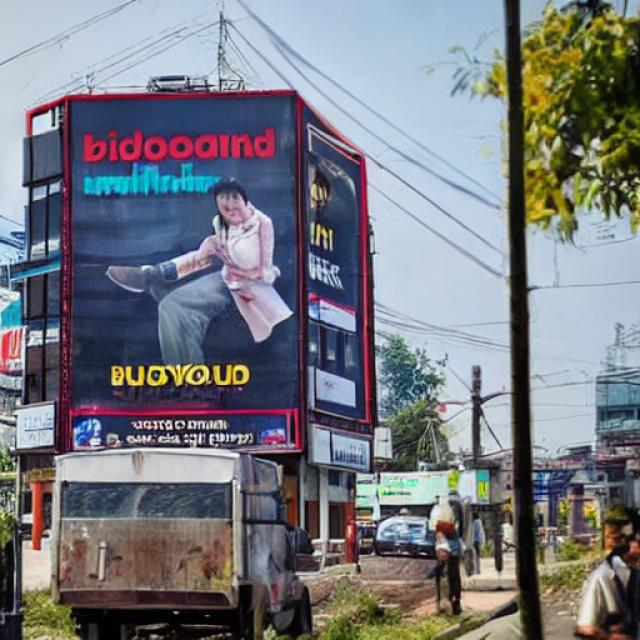Billboard: (59, 84, 306, 413), (306, 93, 374, 430)
